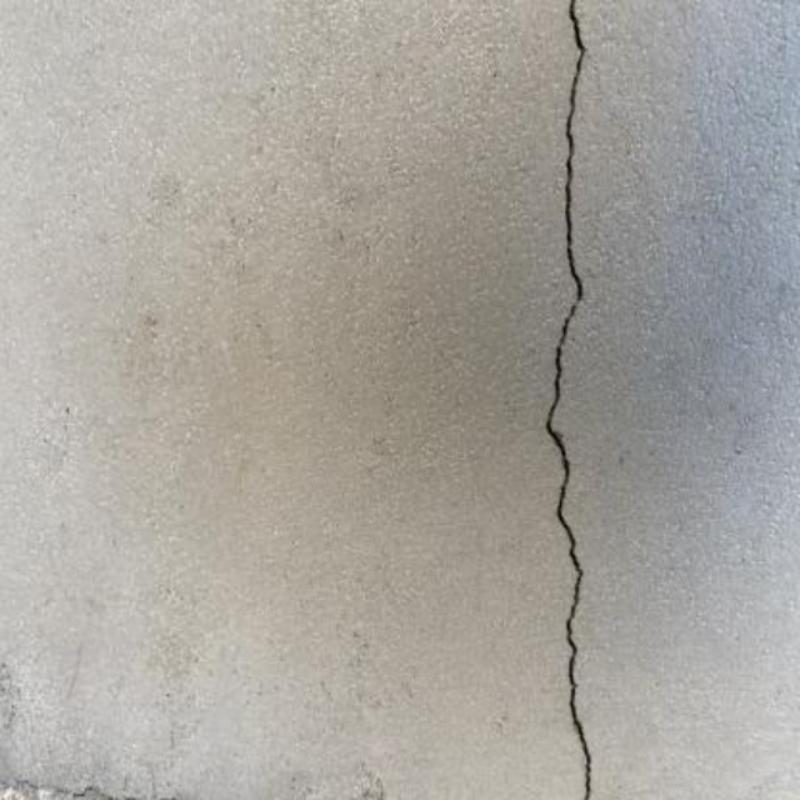pothole: (545, 1, 592, 799)
